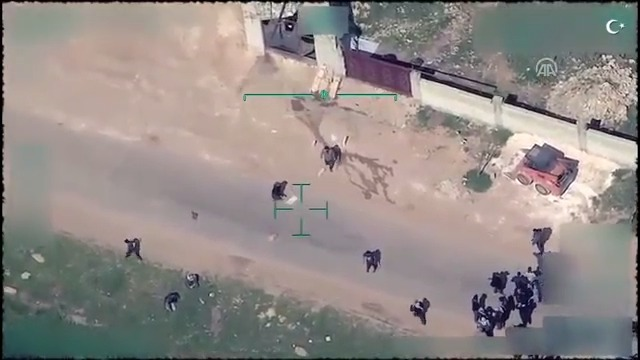arac: (507, 136, 582, 200)
insan: (407, 299, 429, 328), (317, 140, 337, 170), (121, 234, 142, 261), (466, 291, 481, 321), (362, 247, 376, 276)
